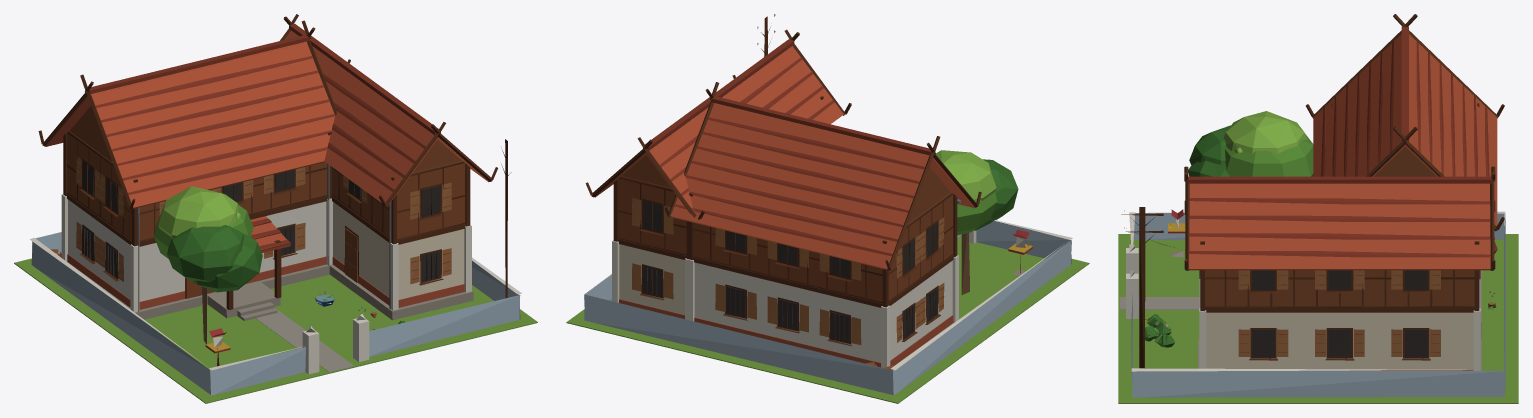
File: home_4.glb
3 renders of one model, left to right at view 1: azimuth 30°, elevation 25°; view 2: azimuth 150°, elevation 25°; view 3: azimuth 270°, elevation 25°, orthographic. The views are drawn at different scales.
Parts seen in each view (by area): view 1: body, windows; view 2: body, windows; view 3: body, windows.
Part boxes in pixels (x1=…): body: x1=14, y1=14, x2=537, y2=403; windows: x1=82, y1=161, x2=440, y2=281; body: x1=566, y1=14, x2=1089, y2=403; windows: x1=643, y1=200, x2=938, y2=342; body: x1=1118, y1=14, x2=1518, y2=403; windows: x1=1252, y1=270, x2=1427, y2=357.
Size of the model in its own units: 15.9 by 10.28 by 15.9.
